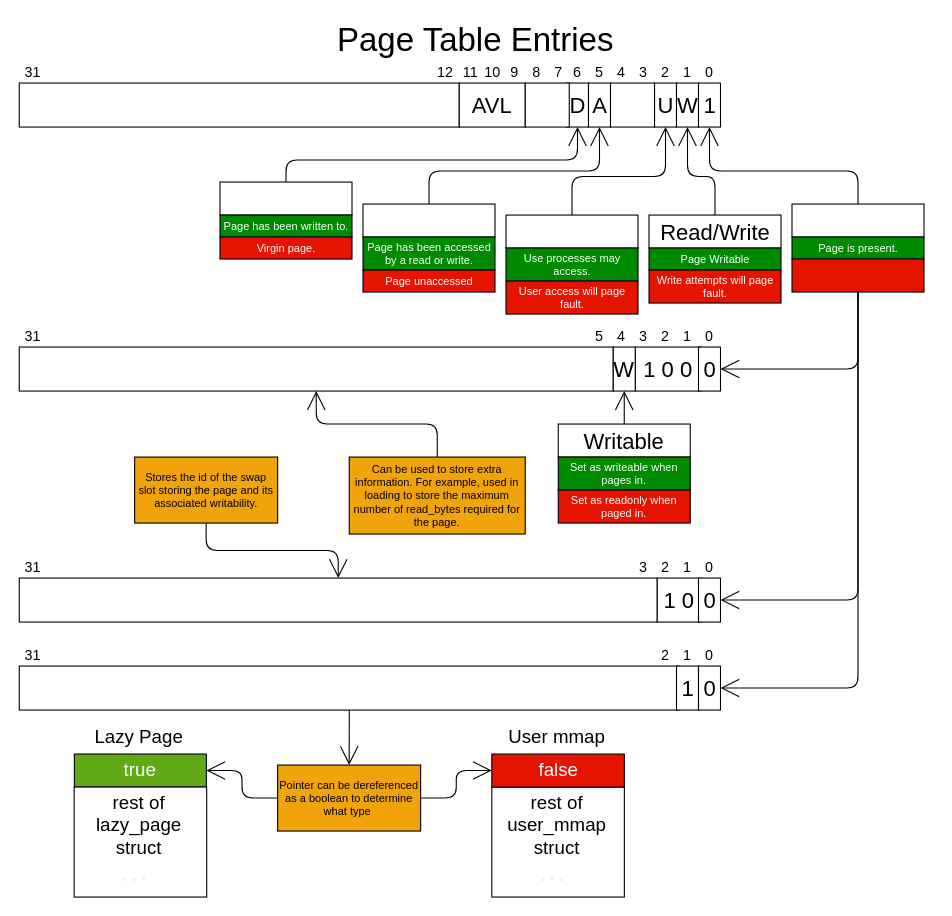
Some shapes in this 952 by 916 pixel diagram are drawn without their labels. Each missing label, with the centre of its shape:
"Access to page will page fault." goes at point (857, 275).
"Accessed" goes at point (428, 220).
"Auxiliary Data" goes at point (315, 368).
"Dirty" goes at point (285, 198).
"Physical Address" goes at point (238, 104).
"Pointer to Lazy Page / User Mmap" goes at point (348, 687).
"Present" goes at point (857, 220).
"Supervisor" goes at point (571, 231).
"Swap Slot ID" goes at point (337, 599).
